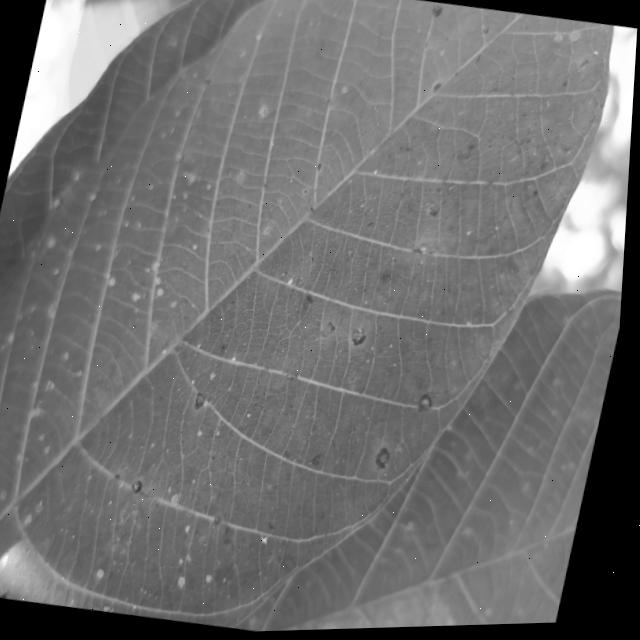Colletotrichum: (380, 449, 398, 471), (422, 396, 440, 416), (431, 7, 444, 20)
